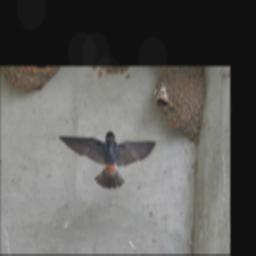Swallow: (56, 129, 157, 190)
